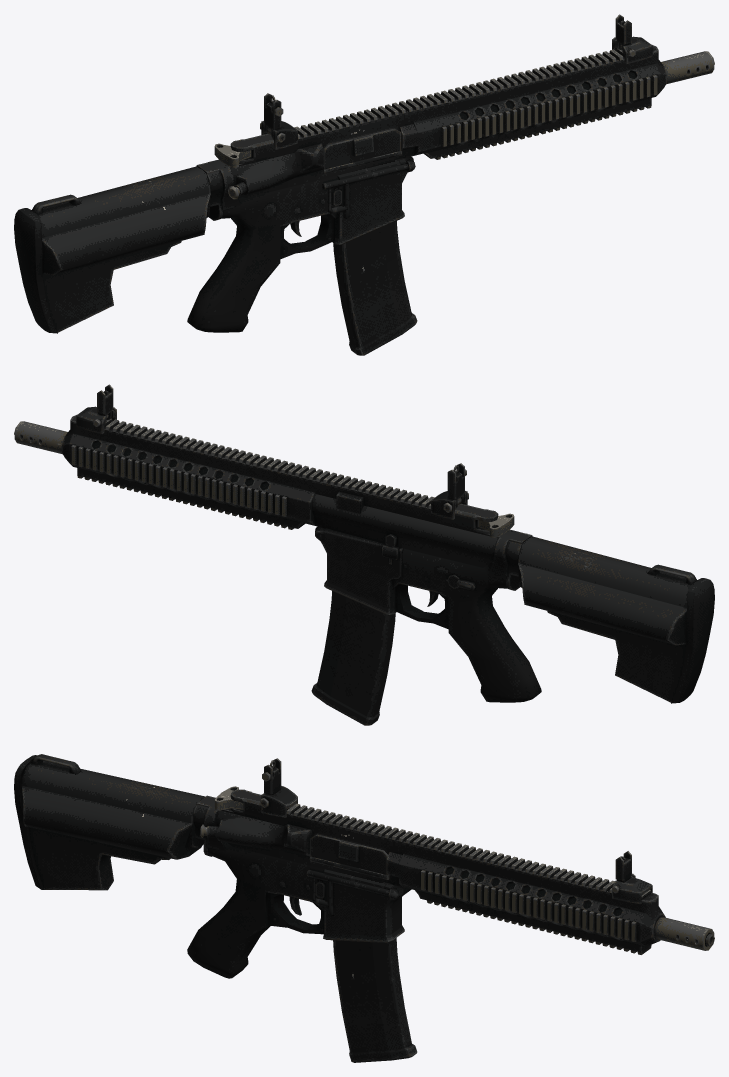
Rendered from tp_rifle.glb.
The picture shows the model from 3 angles, top to bottom: view 1: azimuth 30°, elevation 25°; view 2: azimuth 150°, elevation 25°; view 3: azimuth 330°, elevation 25°; orthographic projection.
Parts seen in each view (by area): view 1: Main_Mesh, Magazine_Mesh, Sights_Mesh, EjectionCover_Mesh, ChargeHandle_Mesh; view 2: Main_Mesh, Magazine_Mesh, Sights_Mesh, ChargeHandle_Mesh; view 3: Main_Mesh, Magazine_Mesh, Sights_Mesh, EjectionCover_Mesh.
Part boxes in pixels (x1,y1,x2,y2): Main_Mesh: (14,45,714,333); Magazine_Mesh: (333,221,417,355); Sights_Mesh: (260,14,652,149); EjectionCover_Mesh: (322,128,401,174); ChargeHandle_Mesh: (214,143,251,167); Main_Mesh: (14,415,714,703); Magazine_Mesh: (311,591,395,725); Sights_Mesh: (76,384,468,519); ChargeHandle_Mesh: (477,513,514,537); Main_Mesh: (14,754,714,978); Magazine_Mesh: (333,938,417,1062); Sights_Mesh: (260,758,652,903); EjectionCover_Mesh: (309,834,389,879).
Bounding box in the file's own units: 82.98 × 31.94 × 7.96.
1 material, 1 textured.
